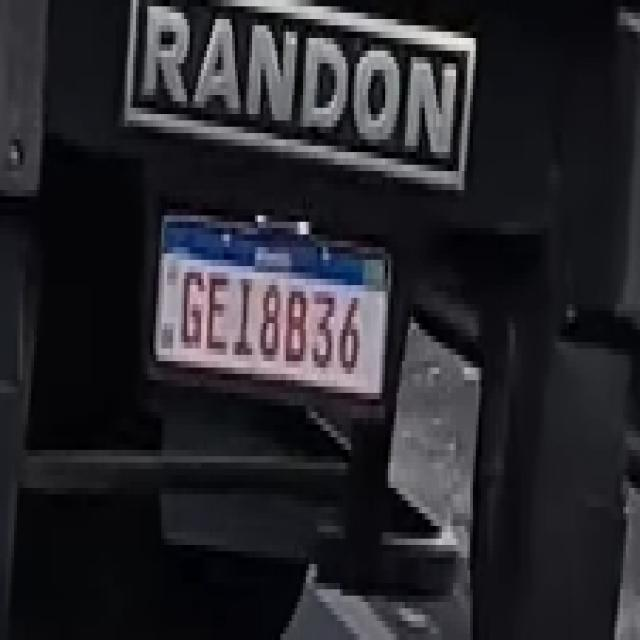Placa_mercosul_carro: (152, 215, 391, 393)
